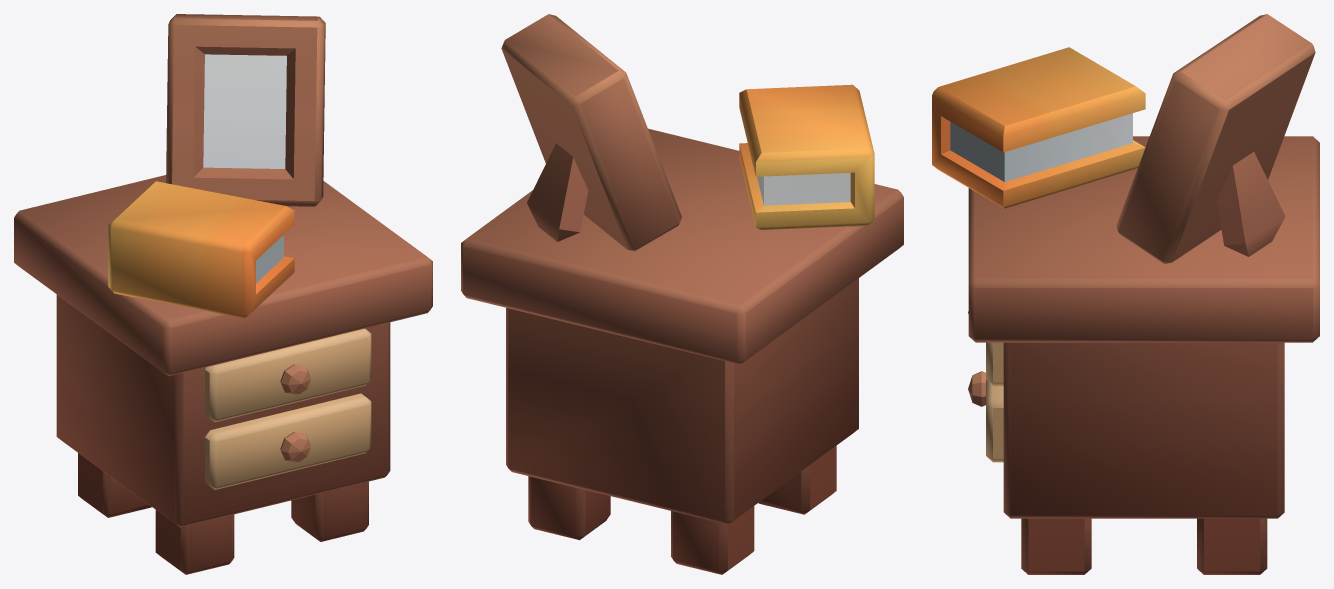
File: kkf.cabinet_small_decorated.glb
3 renders of one model, left to right at view 1: azimuth 30°, elevation 25°; view 2: azimuth 150°, elevation 25°; view 3: azimuth 270°, elevation 25°, orthographic. The views are drawn at different scales.
Visible parts, largest first — view 1: cabinet_small_decorated; view 2: cabinet_small_decorated; view 3: cabinet_small_decorated.
Part boxes in pixels (<box>): cabinet_small_decorated: <box>14,14,432,574</box>; cabinet_small_decorated: <box>461,14,903,574</box>; cabinet_small_decorated: <box>932,14,1319,574</box>.
Size of the model in its own units: 0.7495 by 1.16 by 0.7897.
1 material, 1 textured.
